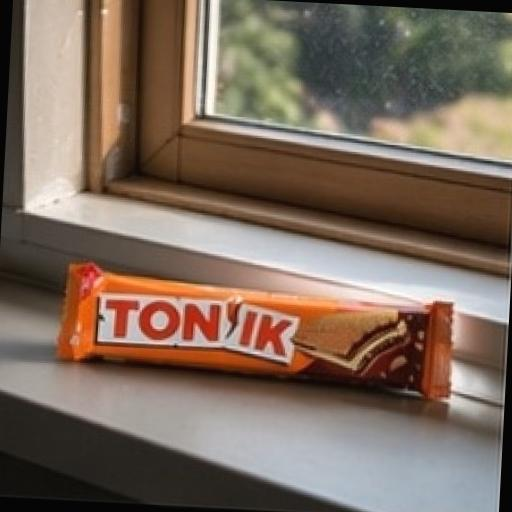tonik: (28, 158, 478, 453)
